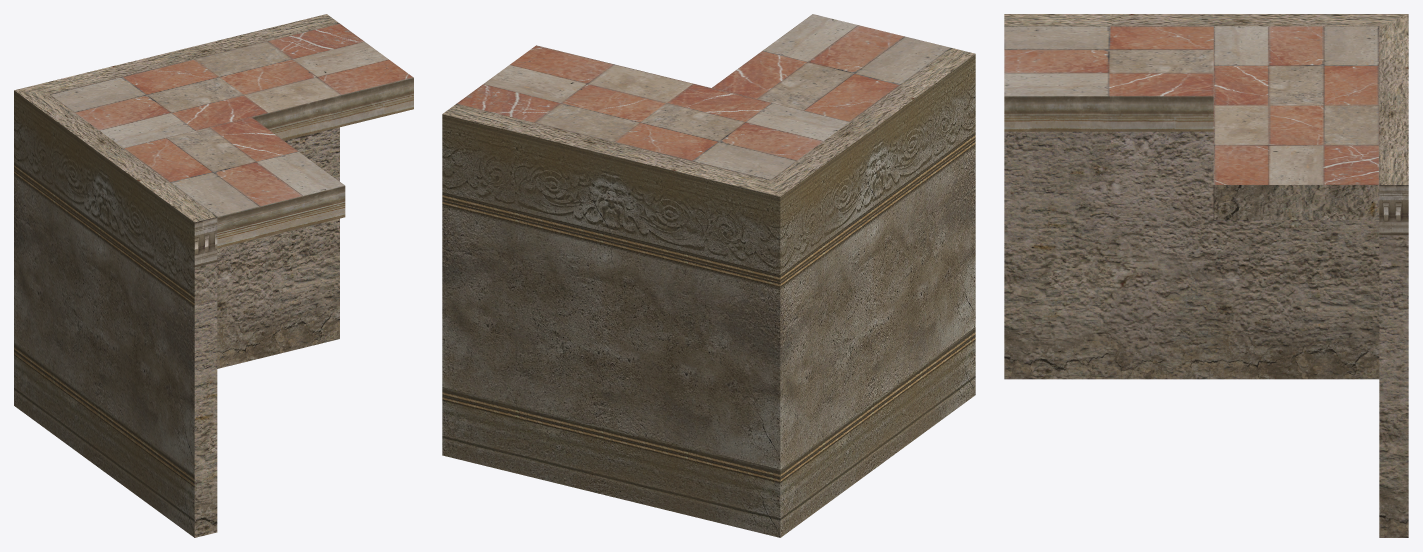
File: SH3D_Sparta_BalcWall8.obj
3 views of the same model, side by side, from view 1: azimuth 30°, elevation 25°; view 2: azimuth 150°, elevation 25°; view 3: azimuth 270°, elevation 25° (orthographic). The views are drawn at different scales.
Visible parts, largest first — view 1: Base_IntWall_Sparta0, Base_Floor2_Sparta0, Base_ExtWall_Sparta0, Base_StepsRail_Sparta0; view 2: Base_IntWall_Sparta0, Base_Floor2_Sparta0, Base_ExtWall_Sparta0; view 3: Base_ExtWall_Sparta0, Base_Floor2_Sparta0, Base_StepsRail_Sparta0.
Part boxes in pixels (x1=…): Base_IntWall_Sparta0: x1=14, y1=90, x2=194, y2=537; Base_Floor2_Sparta0: x1=50, y1=23, x2=413, y2=216; Base_ExtWall_Sparta0: x1=14, y1=14, x2=339, y2=537; Base_StepsRail_Sparta0: x1=217, y1=77, x2=413, y2=248; Base_IntWall_Sparta0: x1=442, y1=54, x2=975, y2=537; Base_Floor2_Sparta0: x1=456, y1=14, x2=950, y2=180; Base_ExtWall_Sparta0: x1=442, y1=48, x2=975, y2=196; Base_ExtWall_Sparta0: x1=1004, y1=14, x2=1408, y2=537; Base_Floor2_Sparta0: x1=1004, y1=26, x2=1379, y2=184; Base_StepsRail_Sparta0: x1=1004, y1=96, x2=1213, y2=131.
Size of the model in its own units: 415 by 400 by 415.
5 materials, 5 textured.
